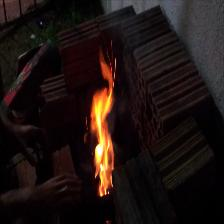fire: (88, 53, 120, 199)
